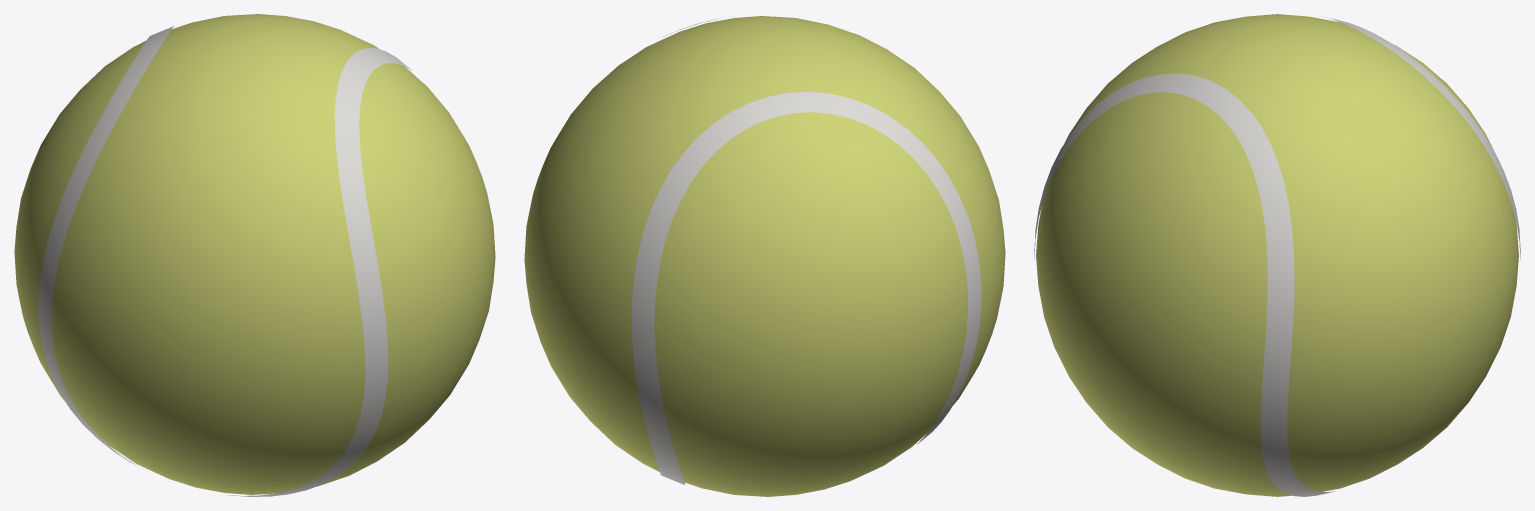
The model's file is tennis.glb.
3 views of the same model, side by side, from view 1: azimuth 30°, elevation 25°; view 2: azimuth 150°, elevation 25°; view 3: azimuth 270°, elevation 25° (orthographic).
Parts seen in each view (by area): view 1: tennis; view 2: tennis; view 3: tennis.
Boxes of the visible parts, <box> form: tennis: <box>14,14,495,496</box>; tennis: <box>524,16,1005,496</box>; tennis: <box>1034,14,1520,496</box>.
Bounding box in the file's own units: 2 × 1.98 × 2.
